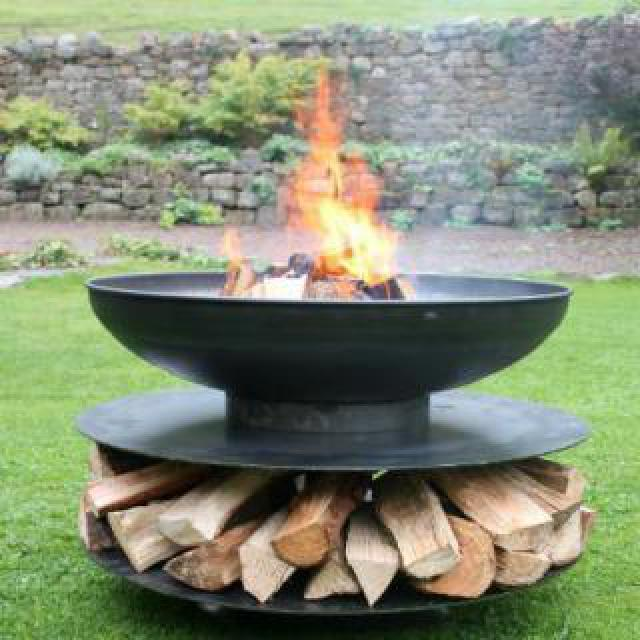Fire: (264, 82, 390, 294)
